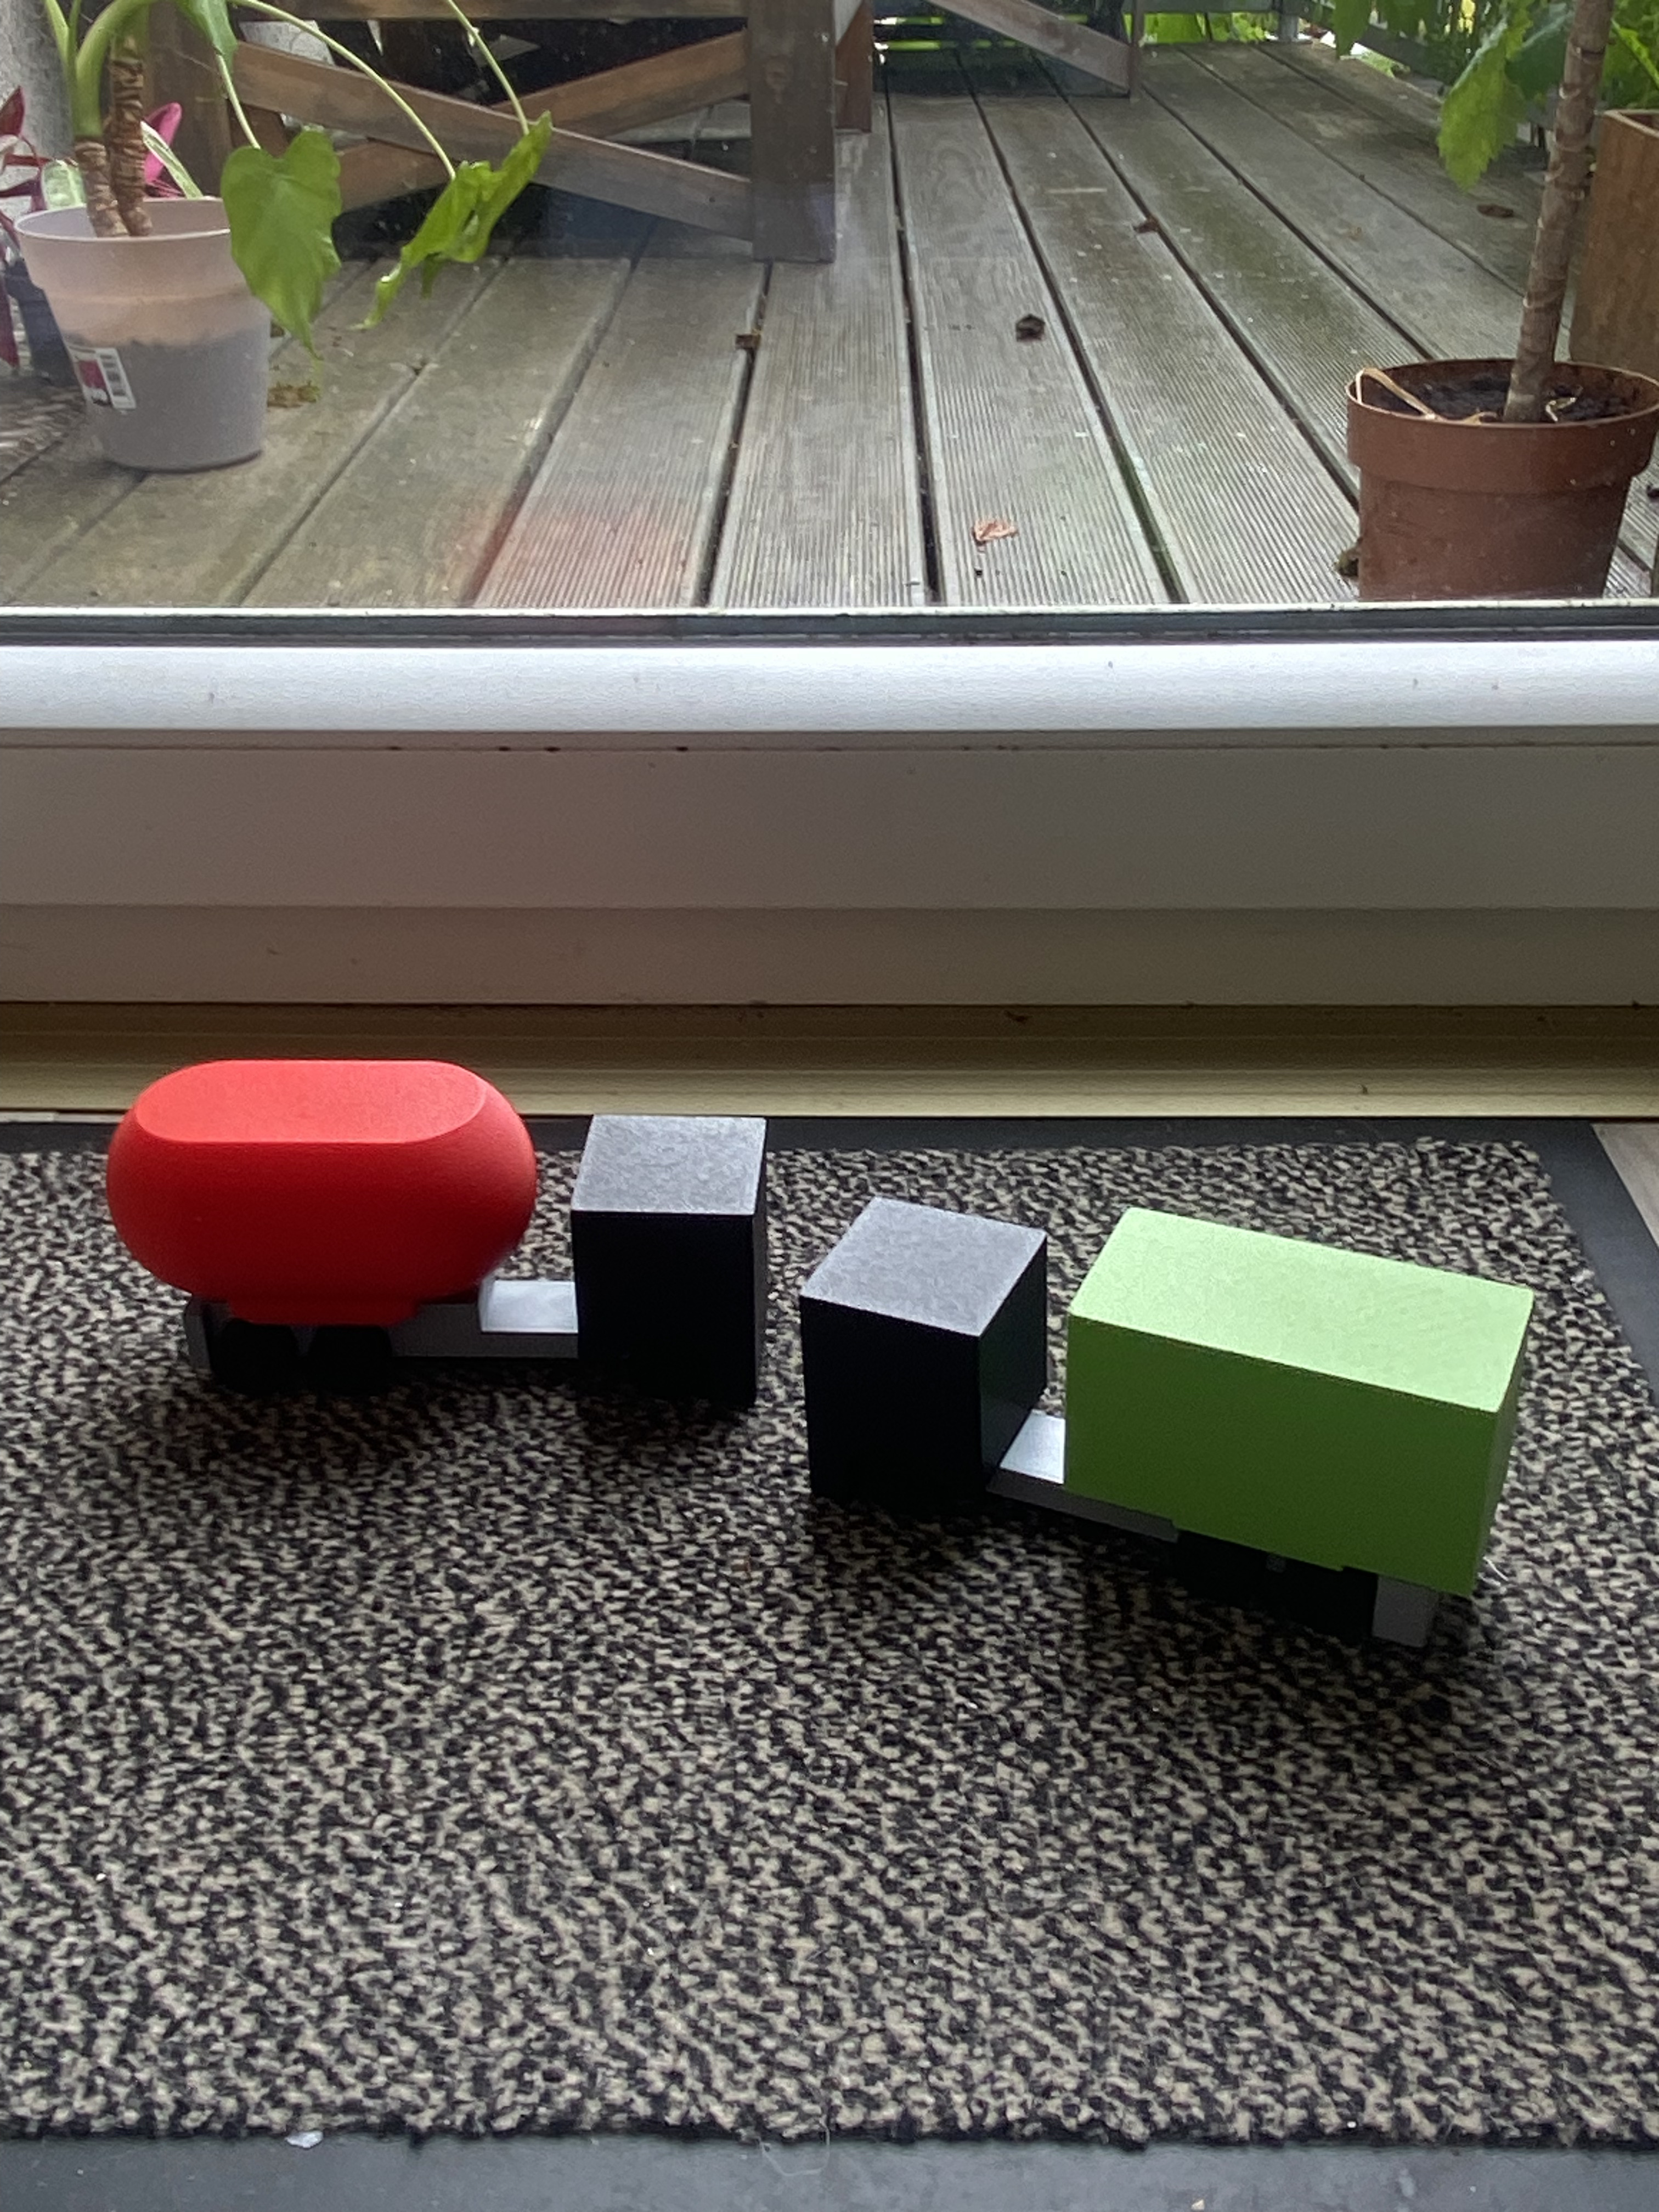green_truck: (948, 1029, 1354, 1766)
red_truck: (333, 974, 671, 1487)
